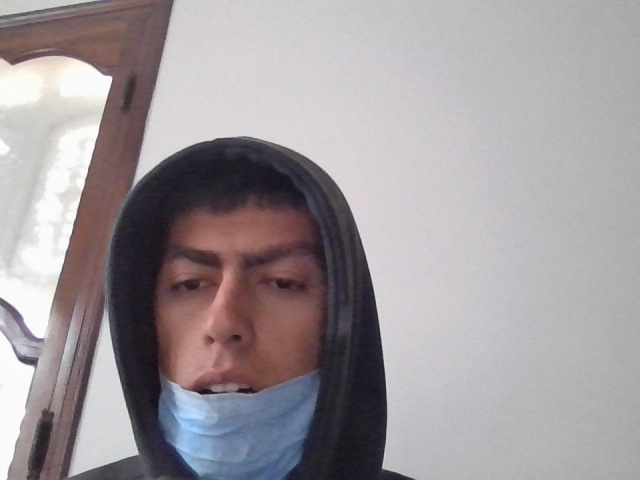mask_weared_incorrect: (143, 194, 328, 472)
